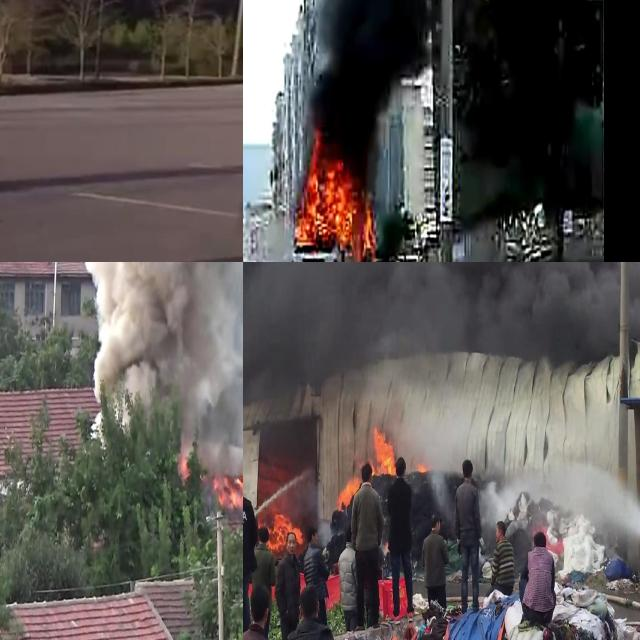fire: (296, 137, 378, 260), (348, 426, 398, 493), (209, 465, 243, 514), (264, 510, 302, 549), (371, 426, 397, 476), (177, 448, 191, 480)
smoke: (87, 262, 243, 456), (243, 262, 550, 342), (314, 0, 424, 86), (521, 262, 621, 352), (313, 65, 380, 158)
